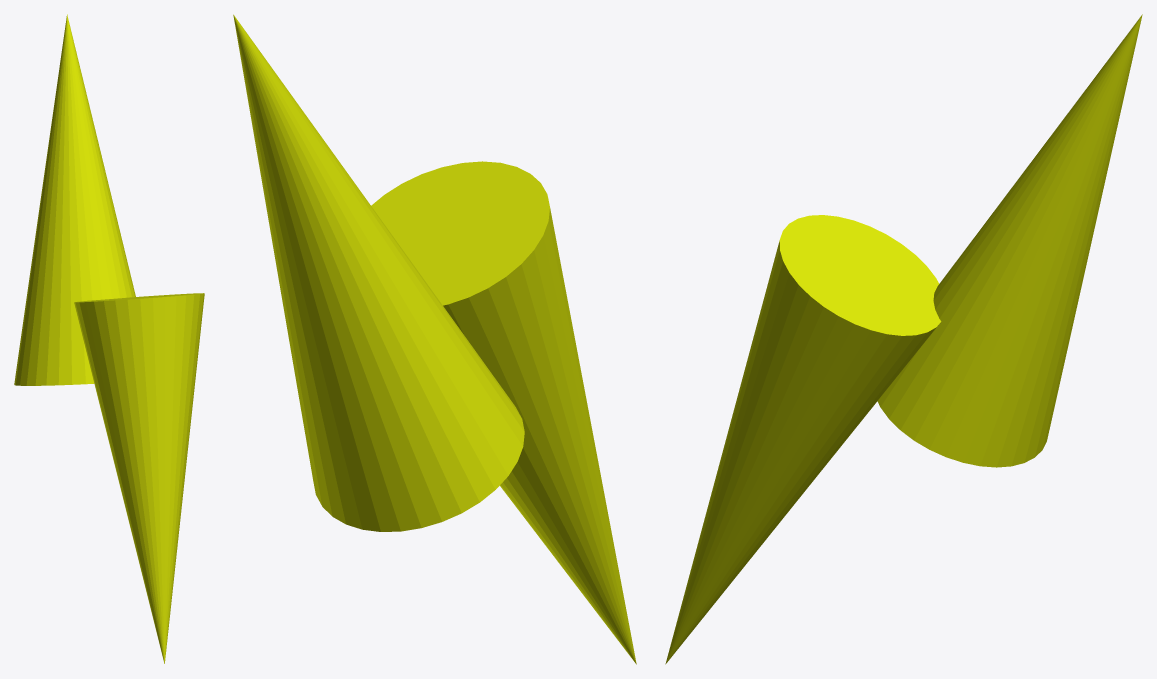
File: Speedboost.dae
3 views of the same model, side by side, from view 1: azimuth 30°, elevation 25°; view 2: azimuth 150°, elevation 25°; view 3: azimuth 270°, elevation 25° (orthographic). The views are drawn at different scales.
Visible parts, largest first — view 1: Cone.001, Cone.002; view 2: Cone.002, Cone.001; view 3: Cone.001, Cone.002.
Part boxes in pixels (<box>): Cone.001: <box>74,293,204,663</box>; Cone.002: <box>14,14,135,385</box>; Cone.002: <box>233,14,524,531</box>; Cone.001: <box>371,161,636,664</box>; Cone.001: <box>665,215,941,664</box>; Cone.002: <box>877,14,1142,467</box>.
Bounding box in the file's own units: 0.9213 × 2.02 × 3.27.
